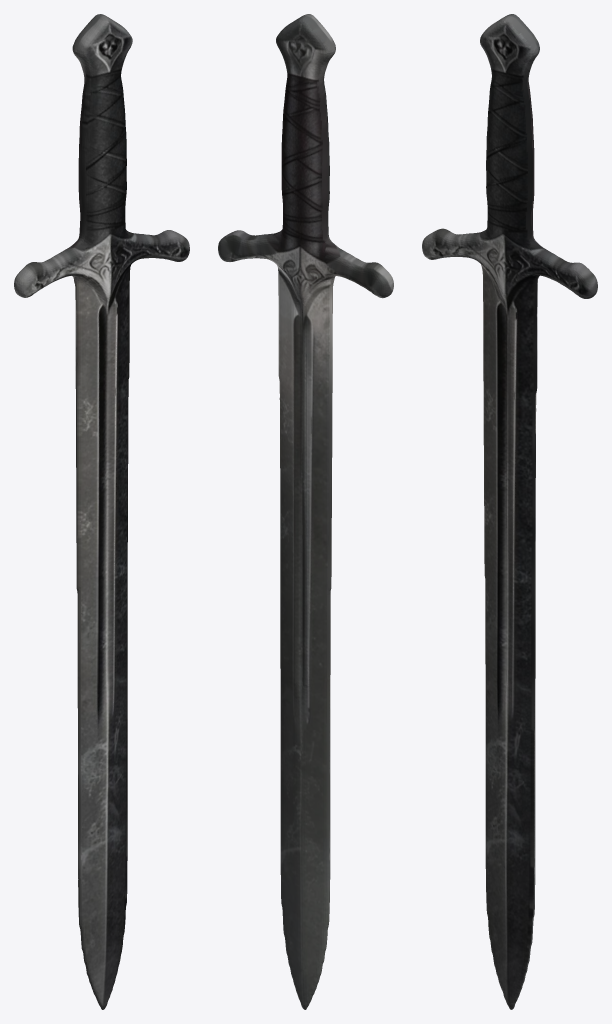
File: Sword.glb
3 renders of one model, left to right at view 1: azimuth 30°, elevation 25°; view 2: azimuth 150°, elevation 25°; view 3: azimuth 330°, elevation 25°, orthographic.
Visible parts, largest first — view 1: Model; view 2: Model; view 3: Model.
Part boxes in pixels (left/top/right/bottom): Model: left=14, top=14, right=189, bottom=1009; Model: left=218, top=14, right=393, bottom=1009; Model: left=422, top=14, right=597, bottom=1009.
Size of the model in its own units: 0.2004 by 1.1 by 0.0322.
Materials: 1 (1 with a texture image).
